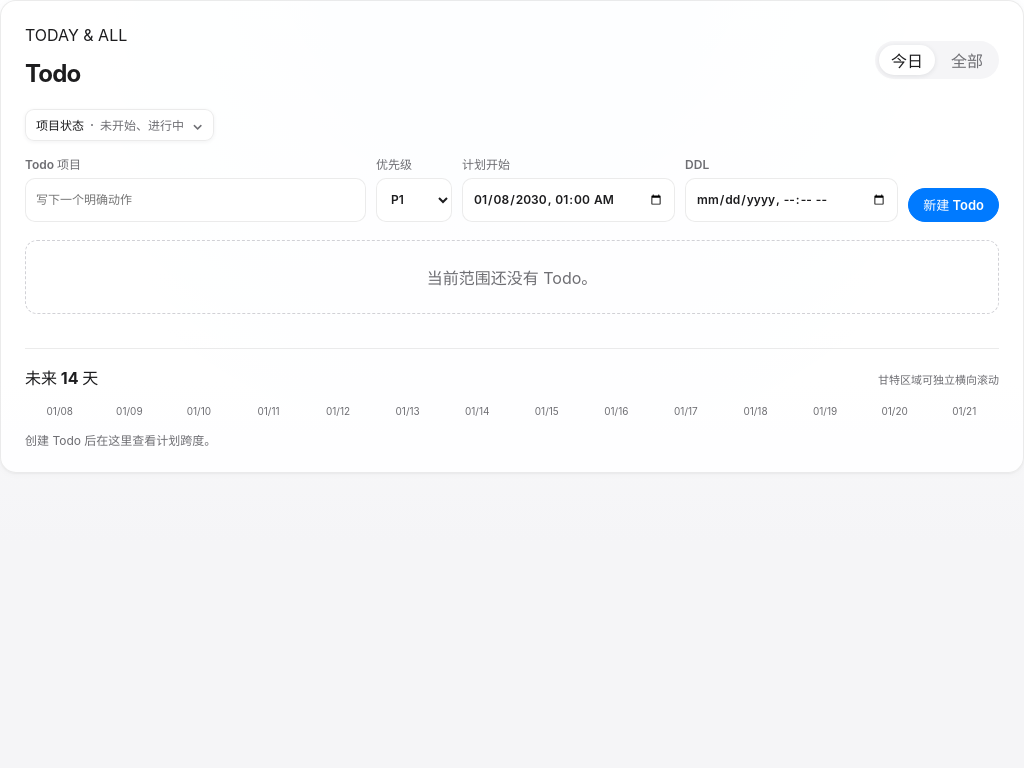
Test: Life Console Todo panel › uses a compact status menu that stays open for multi-select and closes accessibly
Step 1. Click the button with aria-label "项目状态：未开始、进行中" → (120, 125), box [25,109,214,141]
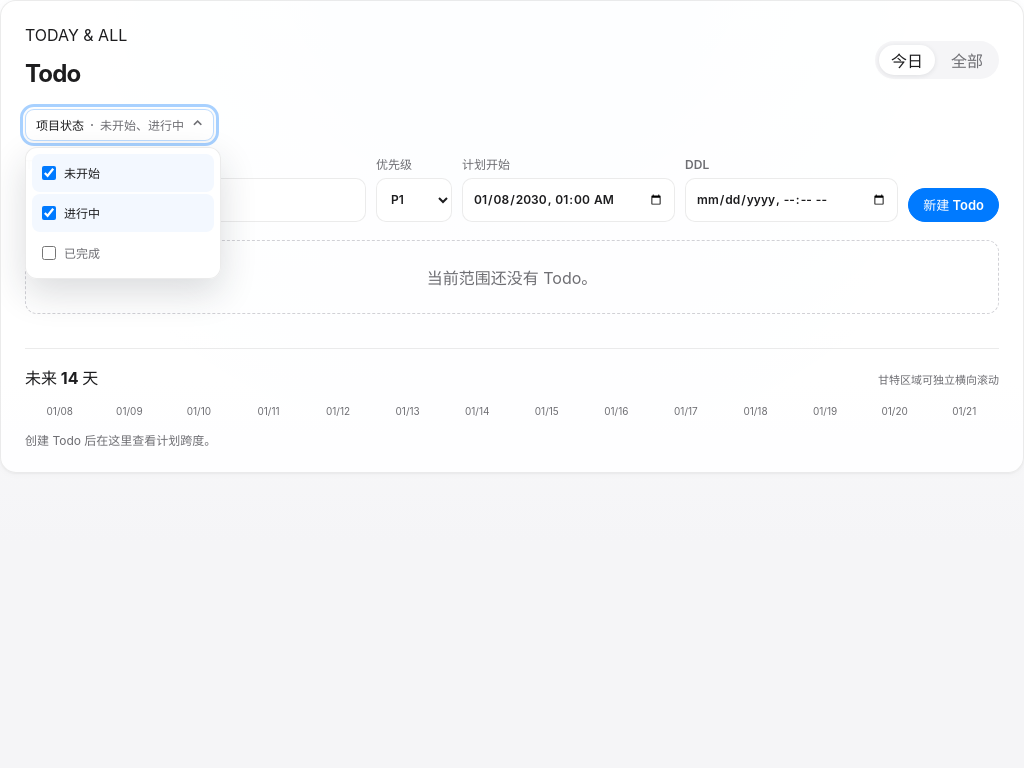
Check: the button with aria-label "项目状态：未开始、进行中" is expanded, box [25,109,214,141]
Check: the element named "项目状态选项" is shown, box [25,147,221,279]
Step 2. Click the checkbox labelled "已完成" → (49, 253), box [42,246,56,260]
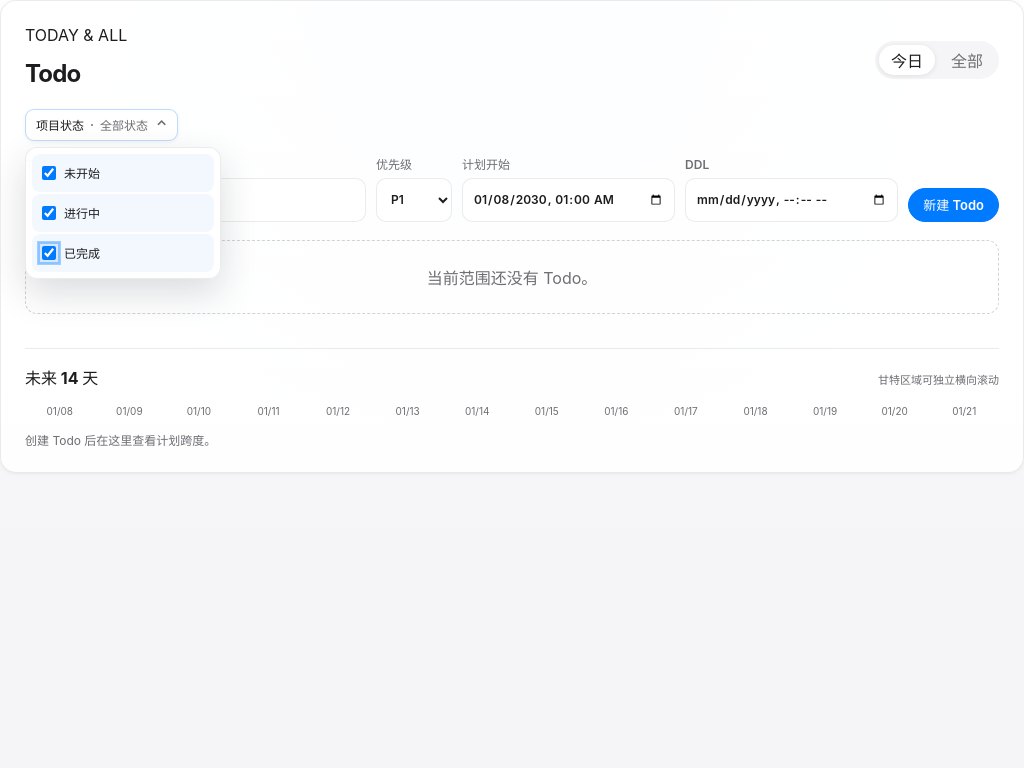
Check: the button with aria-label "项目状态：全部状态" is expanded, box [25,109,178,141]
Step 3. Press Escape
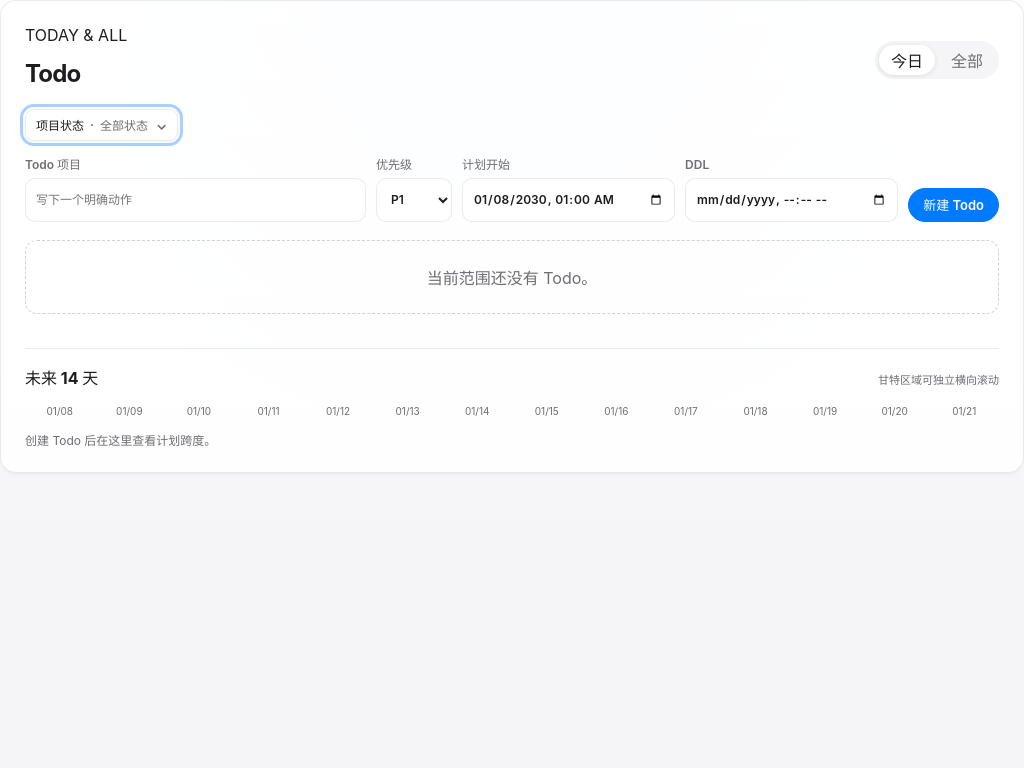
Check: the button with aria-label "项目状态：全部状态" is collapsed
Step 4. Click the button with aria-label "项目状态：全部状态" → (102, 125), box [25,109,178,141]
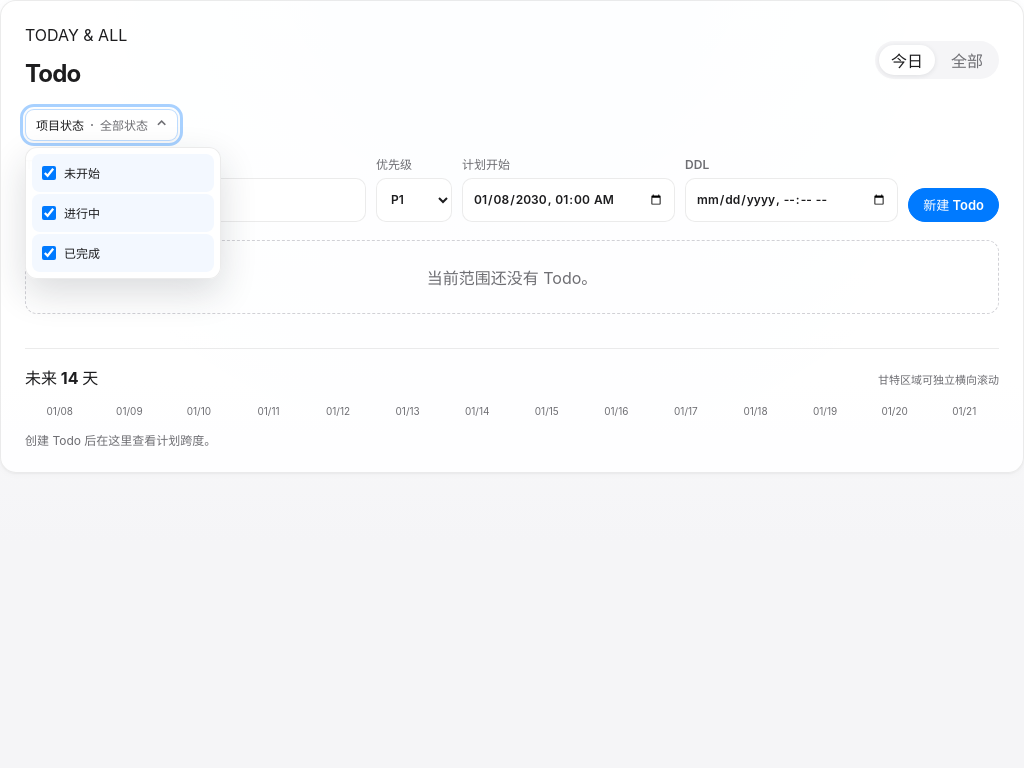
Step 5. Click the element that starts with "TODAY & ALL" → (512, 722), box [0,0,1023,767]
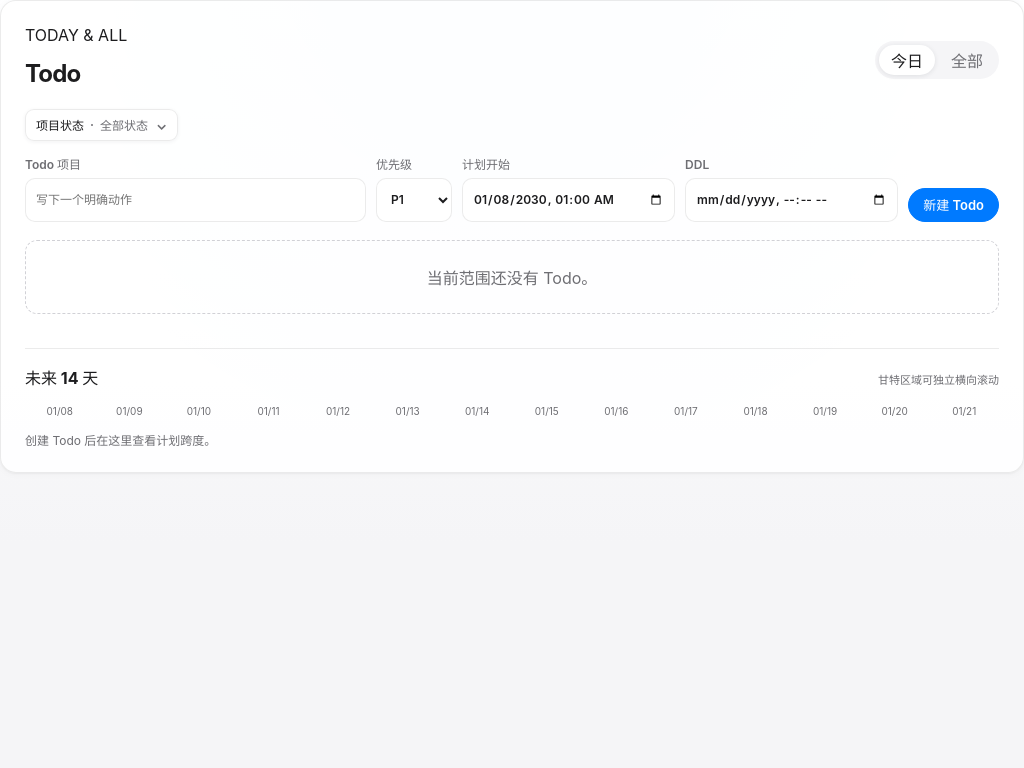
Check: the button with aria-label "项目状态：全部状态" is collapsed, box [25,109,178,141]
